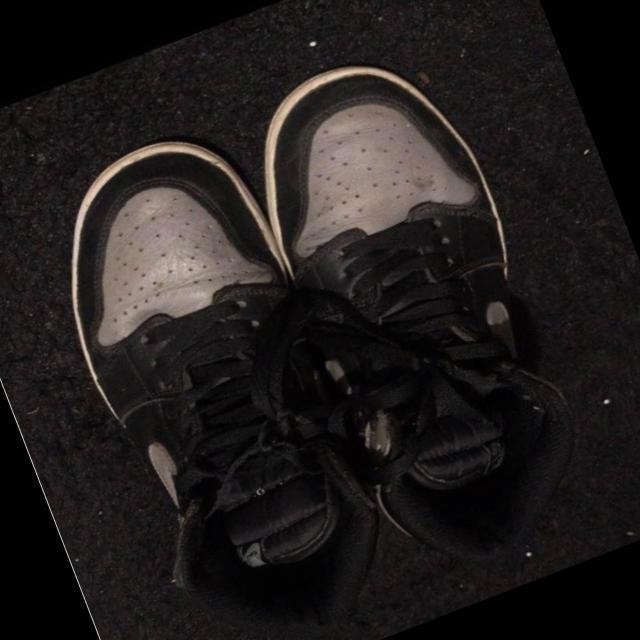nike fake jordan 1: (220, 26, 614, 588), (6, 109, 412, 640)
